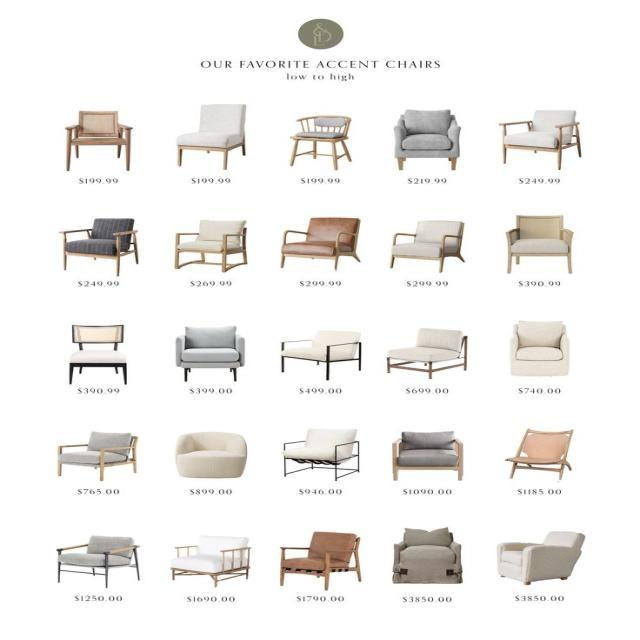obstacle: (496, 530, 586, 586), (499, 110, 582, 170), (278, 531, 362, 590), (176, 104, 246, 170), (59, 218, 138, 276), (56, 534, 140, 588), (279, 217, 361, 271), (170, 534, 250, 588), (504, 214, 574, 274), (385, 328, 468, 378), (64, 110, 132, 171), (391, 526, 462, 584), (56, 431, 138, 481), (280, 330, 362, 380), (393, 109, 460, 170), (282, 428, 359, 481), (388, 220, 466, 272), (174, 325, 244, 382), (174, 219, 248, 272), (504, 428, 574, 481), (392, 431, 464, 482), (68, 324, 128, 385), (288, 114, 352, 170), (508, 320, 570, 376), (175, 431, 247, 478)
